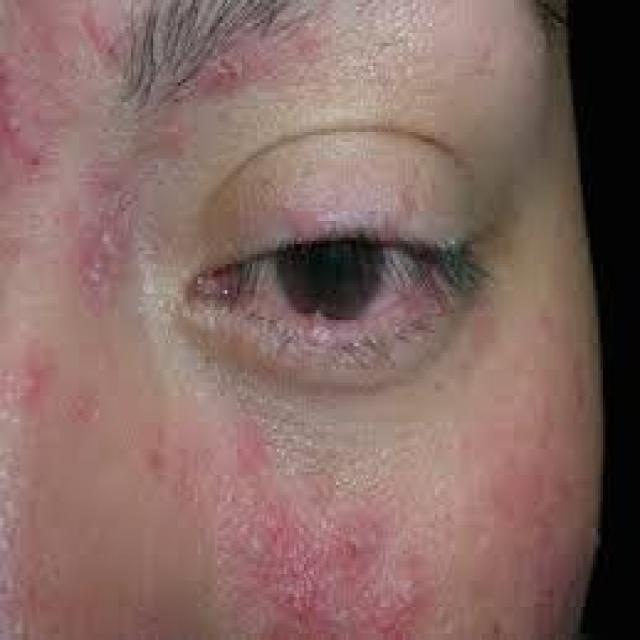Rosacea: (158, 401, 559, 640), (0, 4, 134, 411)
